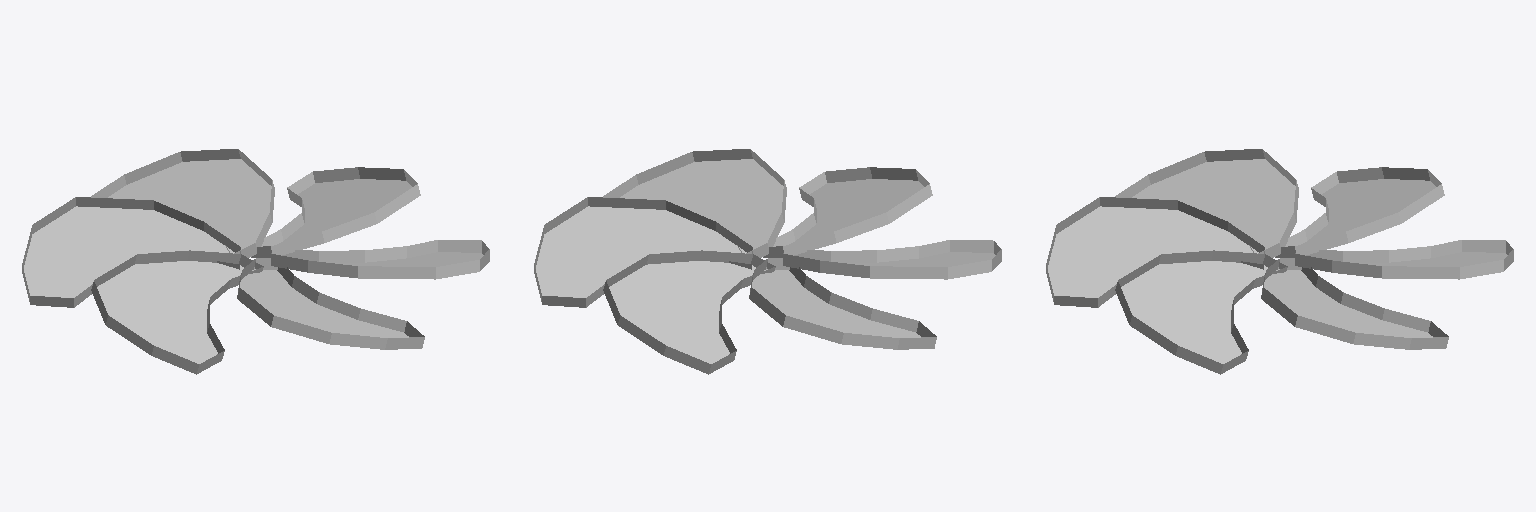
Rendered from Fan.obj.
3 renders of one model, left to right at view 1: azimuth 30°, elevation 25°; view 2: azimuth 150°, elevation 25°; view 3: azimuth 270°, elevation 25°, orthographic.
Visible parts, largest first — view 1: Fan_Plane.009; view 2: Fan_Plane.009; view 3: Fan_Plane.009.
Boxes of the visible parts, <box> form: Fan_Plane.009: <box>22,149,489,374</box>; Fan_Plane.009: <box>534,149,1001,374</box>; Fan_Plane.009: <box>1046,149,1513,374</box>.
Size of the model in its own units: 1.31 by 0.1523 by 1.34.